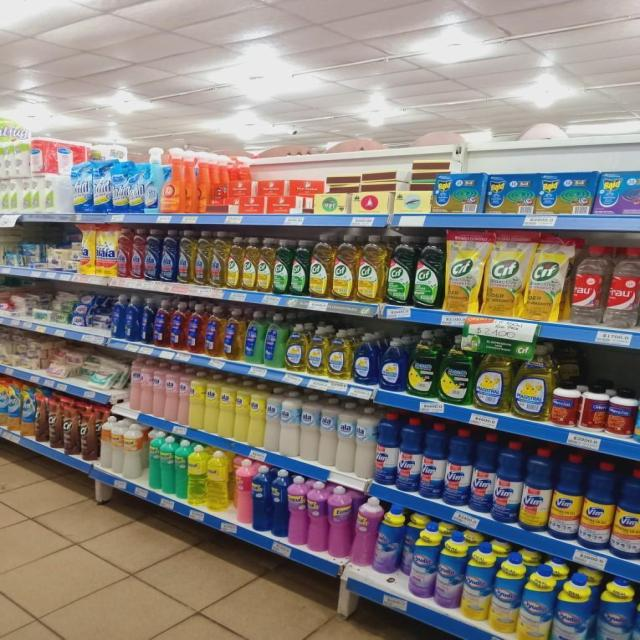ala_conc_amarillo: (210, 230, 227, 288), (178, 229, 194, 284), (195, 230, 210, 286)
ala_conc_azul: (160, 229, 177, 282), (144, 228, 160, 281)
ala_conc_rojo: (130, 228, 144, 280), (117, 226, 131, 278)
ala_crem_amarillo: (249, 382, 264, 448), (188, 369, 204, 430), (219, 375, 234, 439), (234, 379, 248, 444), (204, 373, 218, 434)
ala_crem_blanco: (280, 388, 300, 458), (356, 403, 374, 480), (337, 401, 355, 474), (300, 392, 318, 463), (320, 396, 336, 467), (265, 386, 280, 452)
ala_crem_rosado: (165, 364, 178, 424), (152, 362, 165, 418), (139, 360, 152, 414), (178, 367, 189, 426)
ala_sachet_amarillo: (95, 223, 116, 277), (78, 223, 94, 274)
cif_conc_bot_amarilla: (357, 233, 385, 304), (333, 233, 356, 301), (309, 233, 332, 299), (258, 237, 272, 293), (242, 236, 256, 292), (227, 235, 241, 290)
cif_conc_botella_verde: (414, 235, 444, 309), (387, 234, 413, 306), (291, 238, 309, 297), (274, 238, 290, 295)
cif_conc_sachet_amarillo: (526, 232, 567, 322), (485, 230, 524, 317), (445, 230, 483, 314)
magistral_con_amarillo: (512, 347, 552, 420), (474, 353, 510, 412), (328, 328, 351, 380), (286, 322, 306, 372), (308, 325, 326, 376)
magistral_con_azul: (379, 336, 407, 392), (352, 332, 378, 386)
zorro: (264, 312, 284, 368), (244, 310, 263, 364), (224, 308, 242, 360), (205, 306, 223, 357), (187, 303, 204, 353), (170, 301, 186, 350)
